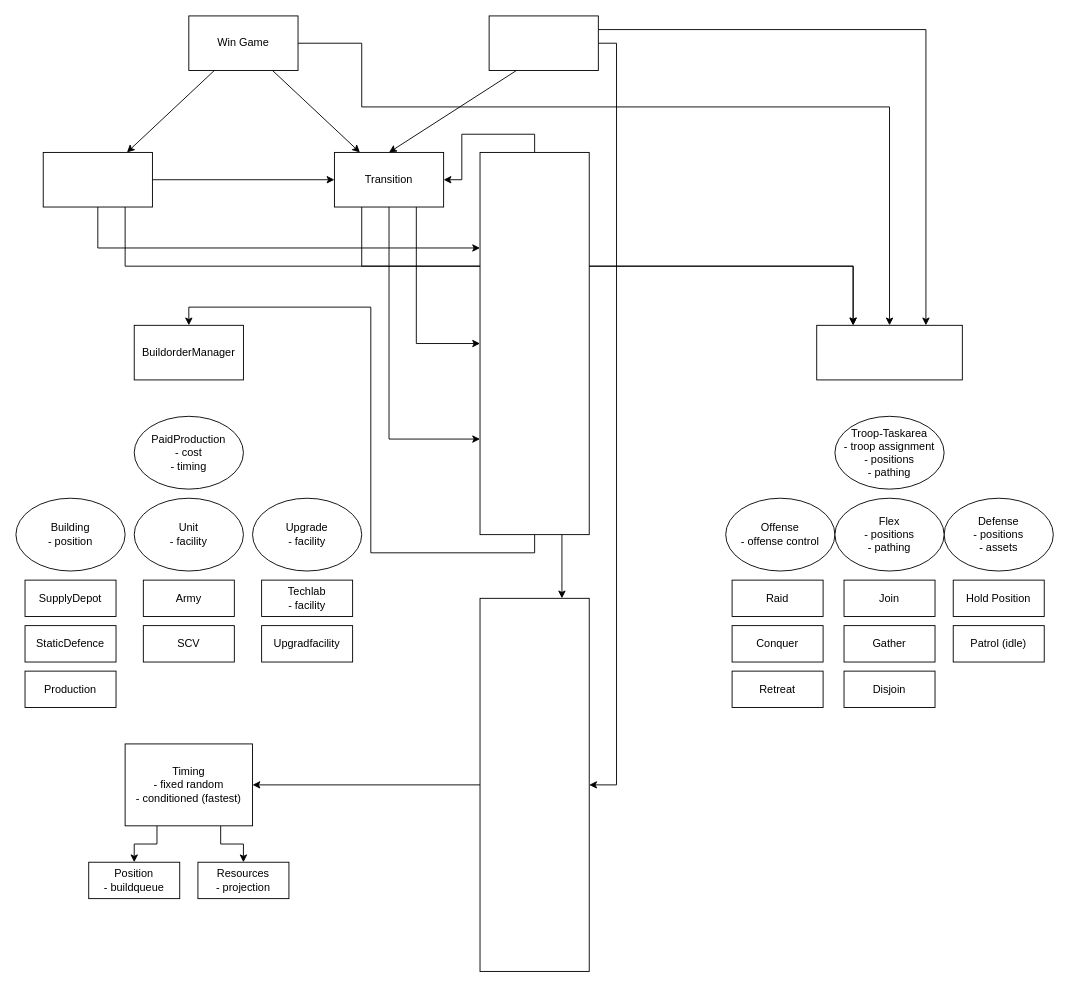
Some shapes in this 1069 by 987 pixel diagram are drawn without their labels. Here are the shapes that lost their labels. From the top down, the box of each, then its label:
(488, 15, 598, 71): GameState - value assessment
(42, 152, 152, 207): Opener
(479, 152, 589, 535): Buildorder
(816, 324, 962, 380): Unit-Control Manager
(479, 597, 589, 971): Priotities
